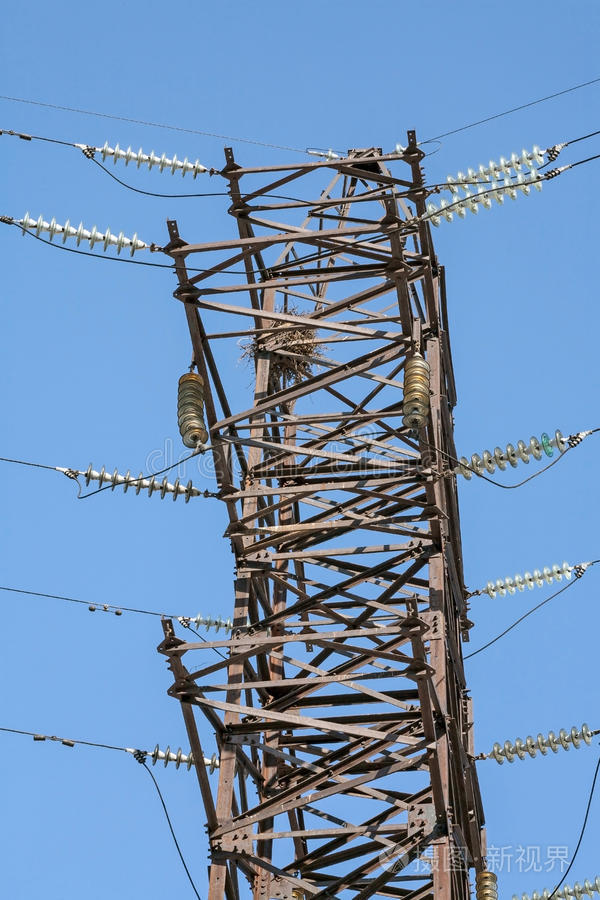insulator: (426, 145, 551, 225), (21, 210, 145, 258), (458, 428, 568, 480), (78, 461, 197, 503), (490, 724, 595, 768), (95, 139, 198, 183), (482, 559, 571, 597), (396, 352, 431, 431), (174, 371, 209, 448), (147, 741, 217, 777), (523, 874, 594, 900), (185, 609, 234, 634), (473, 867, 500, 900)
